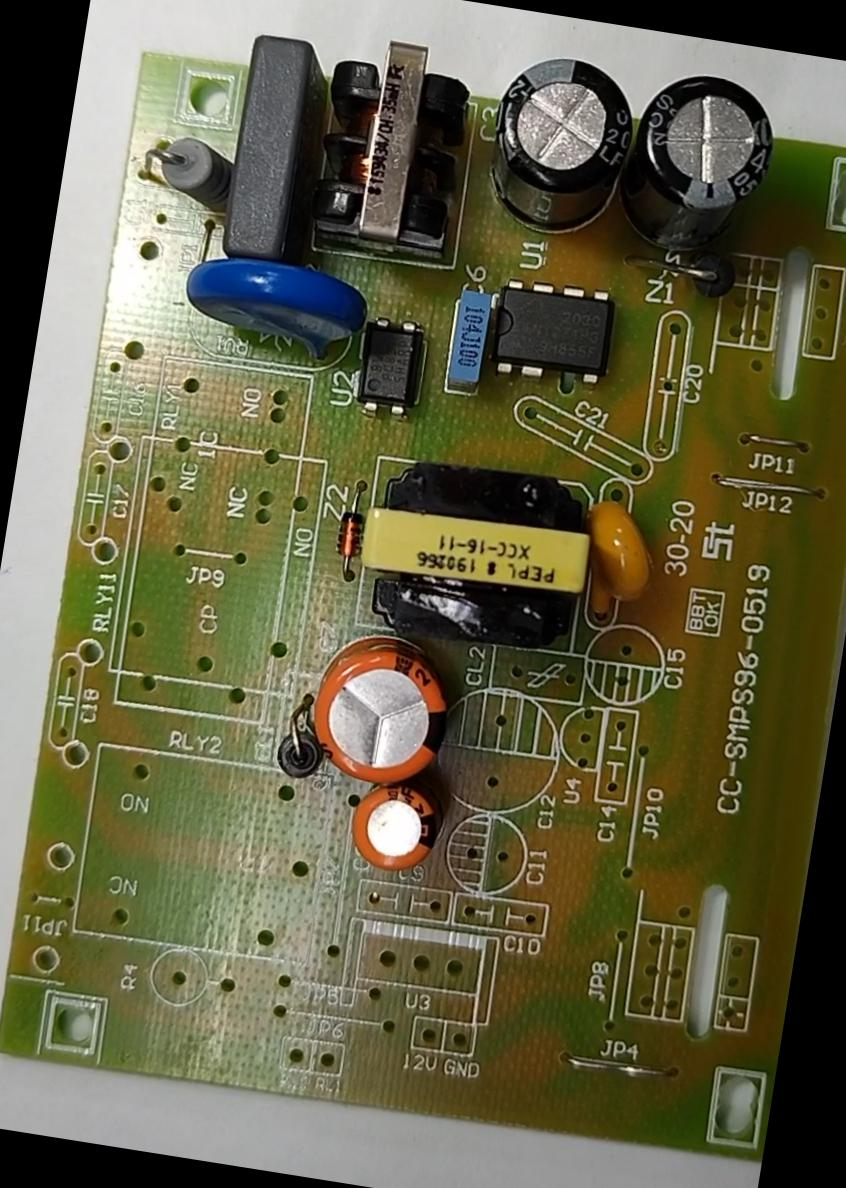Cap1: (297, 623, 475, 802)
Cap2: (333, 764, 453, 883)
Cap3: (473, 35, 646, 242)
Cap4: (608, 59, 798, 268)
MOSFET: (472, 268, 632, 400)
Mov: (167, 234, 376, 380)
Resistor: (132, 122, 232, 212)
Transformer: (341, 437, 608, 664), (300, 20, 489, 267)
